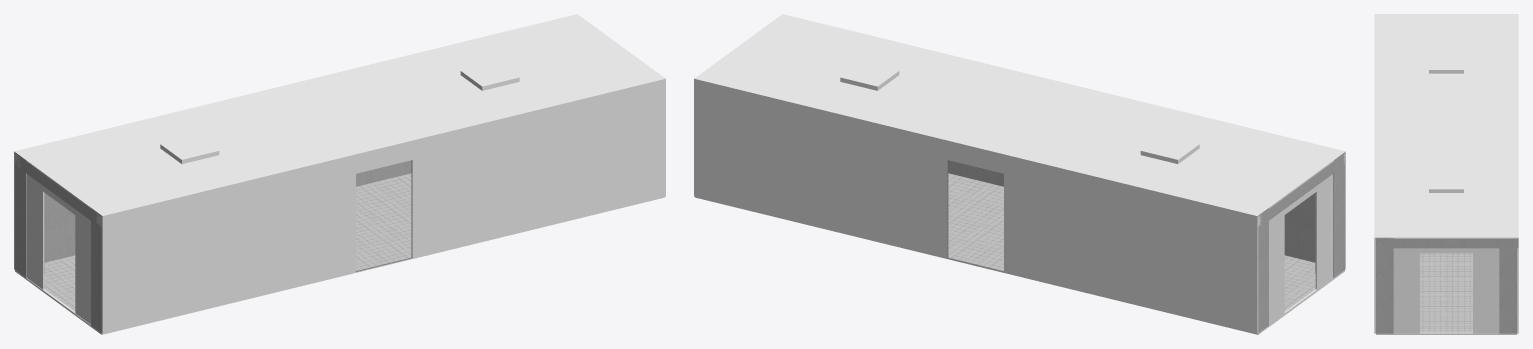
File: Tunnel2_V2.fbx
3 renders of one model, left to right at view 1: azimuth 30°, elevation 25°; view 2: azimuth 150°, elevation 25°; view 3: azimuth 270°, elevation 25°, orthographic. The views are drawn at different scales.
Visible parts, largest first — view 1: node_id19, node_id48, node_id27 (×2), node_id36, node_id23 (×2), node_id51 (×2), node_id45, node_id42, node_id33; view 2: node_id23, node_id48, node_id27 (×2), node_id36, node_id19 (×2), node_id51 (×2), node_id45, node_id42, node_id33; view 3: node_id48, node_id39, node_id27 (×2), node_id51 (×2), node_id30, node_id42, node_id45, node_id19, node_id23.
Part boxes in pixels (left/top/right/bottom): node_id19: left=101, top=78, right=665, bottom=333; node_id48: left=15, top=14, right=664, bottom=215; node_id27 (×2): left=15, top=173, right=664, bottom=334; node_id36: left=26, top=174, right=90, bottom=324; node_id23 (×2): left=14, top=14, right=577, bottom=269; node_id51 (×2): left=15, top=152, right=101, bottom=332; node_id45: left=460, top=61, right=519, bottom=90; node_id42: left=160, top=135, right=219, bottom=163; node_id33: left=15, top=153, right=99, bottom=225; node_id23: left=694, top=78, right=1258, bottom=333; node_id48: left=695, top=14, right=1344, bottom=215; node_id27 (×2): left=695, top=173, right=1344, bottom=334; node_id36: left=1256, top=174, right=1333, bottom=334; node_id19 (×2): left=782, top=14, right=1345, bottom=269; node_id51 (×2): left=1258, top=152, right=1344, bottom=332; node_id45: left=840, top=61, right=899, bottom=90; node_id42: left=1140, top=135, right=1199, bottom=163; node_id33: left=1269, top=161, right=1333, bottom=220; node_id48: left=1376, top=14, right=1516, bottom=238; node_id39: left=1393, top=248, right=1499, bottom=333; node_id27 (×2): left=1376, top=253, right=1516, bottom=334; node_id51 (×2): left=1376, top=237, right=1516, bottom=333; node_id30: left=1393, top=238, right=1518, bottom=248; node_id42: left=1429, top=55, right=1463, bottom=73; node_id45: left=1429, top=174, right=1463, bottom=192; node_id19: left=1374, top=14, right=1375, bottom=333; node_id23: left=1517, top=14, right=1518, bottom=333.
Size of the model in its own units: 0.512 by 0.1075 by 0.1393.
Materials: 37 (22 with a texture image).
